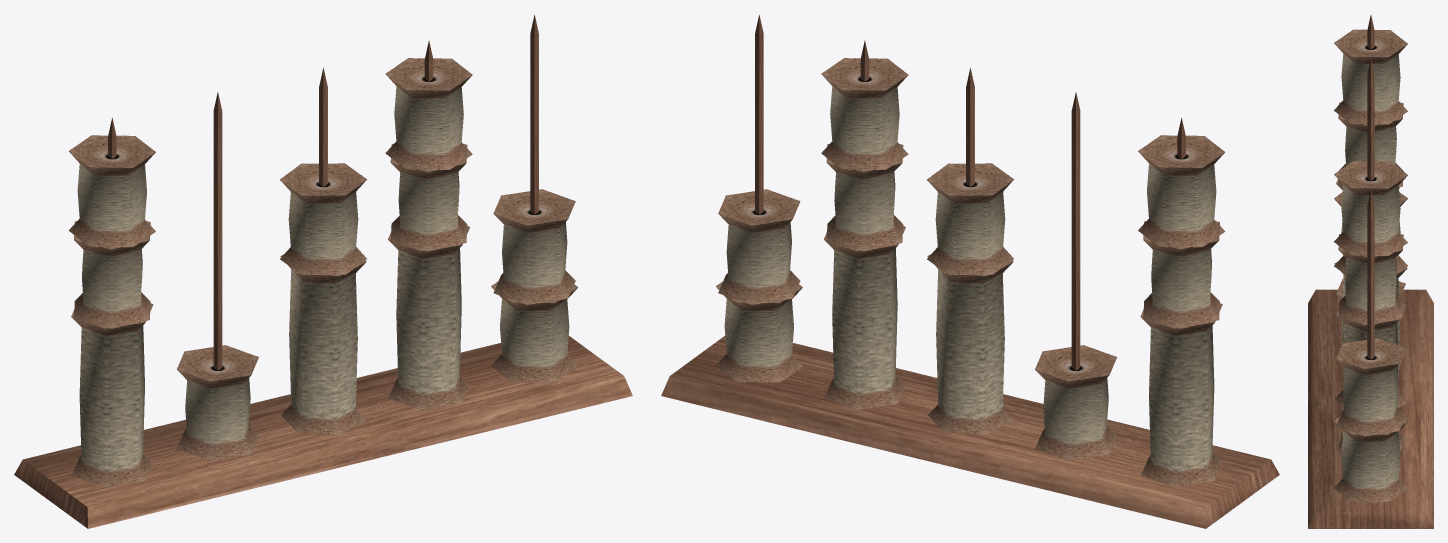
File: shop_tailor_threadRack.fbx
3 views of the same model, side by side, from view 1: azimuth 30°, elevation 25°; view 2: azimuth 150°, elevation 25°; view 3: azimuth 270°, elevation 25° (orthographic). The views are drawn at different scales.
Parts seen in each view (by area): view 1: rack_base, spool1.002, spool1.001, spool1.003, spool3.001, spool3, spool2.002, thread_column4, spool2, spool1, spool2.001, spool2.003 (+3 smaller); view 2: rack_base, spool1.002, spool1.001, spool1.003, spool3.001, spool3, spool2.002, thread_column4, spool2, spool1, spool2.001, spool2.003 (+3 smaller); view 3: rack_base, spool2, spool3.001, spool3, spool1, spool2.001, spool2.003, rack_pole1, spool1.001, spool1.002, spool2.002, rack_pole4 (+4 smaller).
Boxes of the visible parts, bbox=[...] form: rack_base: bbox=[14, 336, 632, 528]; spool1.002: bbox=[280, 254, 366, 434]; spool1.001: bbox=[388, 226, 469, 409]; spool1.003: bbox=[71, 303, 153, 487]; spool3.001: bbox=[69, 135, 155, 247]; spool3: bbox=[385, 58, 472, 169]; spool2.002: bbox=[280, 163, 366, 274]; thread_column4: bbox=[177, 345, 258, 460]; spool2: bbox=[493, 189, 575, 304]; spool1: bbox=[491, 281, 577, 382]; spool2.001: bbox=[390, 143, 467, 251]; spool2.003: bbox=[74, 221, 150, 328]; rack_base: bbox=[661, 336, 1279, 528]; spool1.002: bbox=[927, 254, 1013, 434]; spool1.001: bbox=[824, 226, 905, 409]; spool1.003: bbox=[1140, 303, 1222, 487]; spool3.001: bbox=[1138, 135, 1224, 247]; spool3: bbox=[821, 58, 908, 169]; spool2.002: bbox=[927, 163, 1013, 274]; thread_column4: bbox=[1035, 345, 1116, 460]; spool2: bbox=[718, 189, 800, 304]; spool1: bbox=[716, 281, 802, 382]; spool2.001: bbox=[826, 143, 903, 251]; spool2.003: bbox=[1143, 221, 1219, 328]; rack_base: bbox=[1308, 289, 1433, 528]; spool2: bbox=[1336, 338, 1405, 436]; spool3.001: bbox=[1334, 29, 1407, 124]; spool3: bbox=[1334, 161, 1407, 255]; spool1: bbox=[1334, 416, 1407, 502]; spool2.001: bbox=[1338, 234, 1403, 324]; spool2.003: bbox=[1338, 102, 1403, 187]; rack_pole1: bbox=[1367, 190, 1374, 359]; spool1.001: bbox=[1336, 304, 1405, 451]; spool1.002: bbox=[1334, 262, 1407, 408]; spool2.002: bbox=[1334, 192, 1407, 273]; rack_pole4: bbox=[1367, 59, 1374, 118].
Bounding box in the file's own units: 271 × 176 × 63.72.
Materials: 1 (1 with a texture image).
